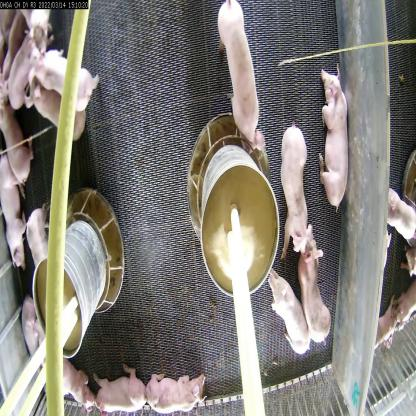Pig: (220, 0, 270, 150), (290, 227, 341, 357), (312, 63, 352, 217), (275, 119, 318, 258), (33, 36, 112, 105), (19, 73, 84, 154), (254, 261, 309, 343), (143, 360, 221, 416), (94, 348, 158, 415), (0, 152, 29, 267)
